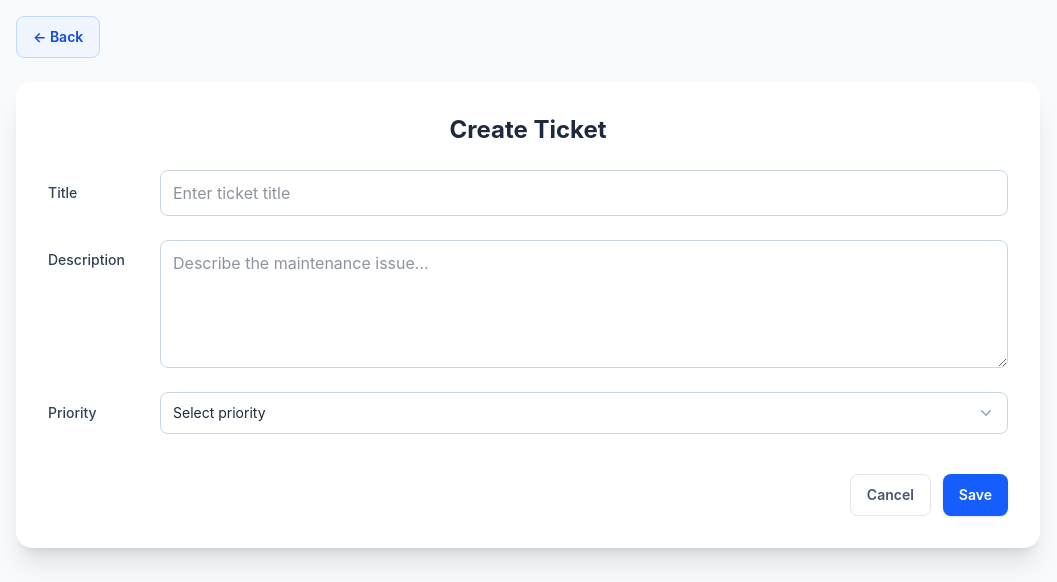
Test case: CreateTicket page › clears the form when the form Cancel button is clicked
Type "Repair leaking pipe" into the field labelled "Title" at (584, 193), box [160,170,1008,216]
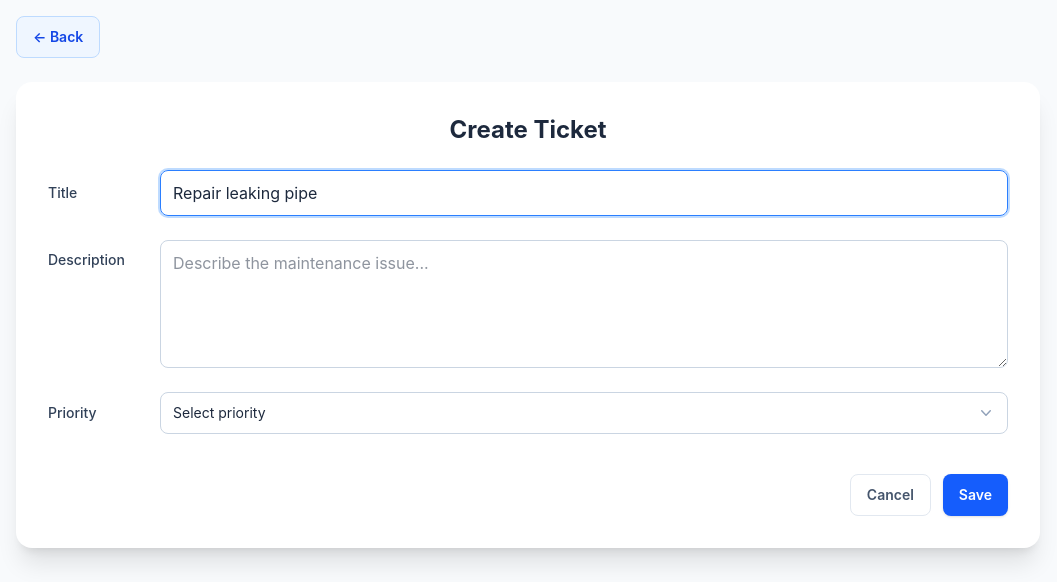
Type "Pipe leak in kitchen" into the text box labelled "Description" at (584, 304), box [160,240,1008,368]
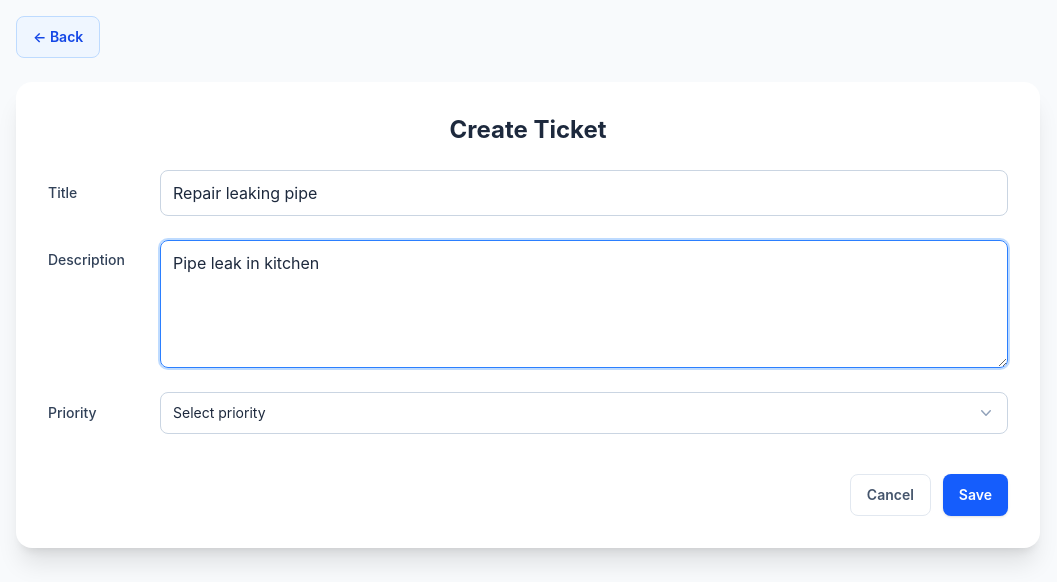
Select "High" in the dropdown labelled "Priority" at (584, 413), box [160,392,1008,434]
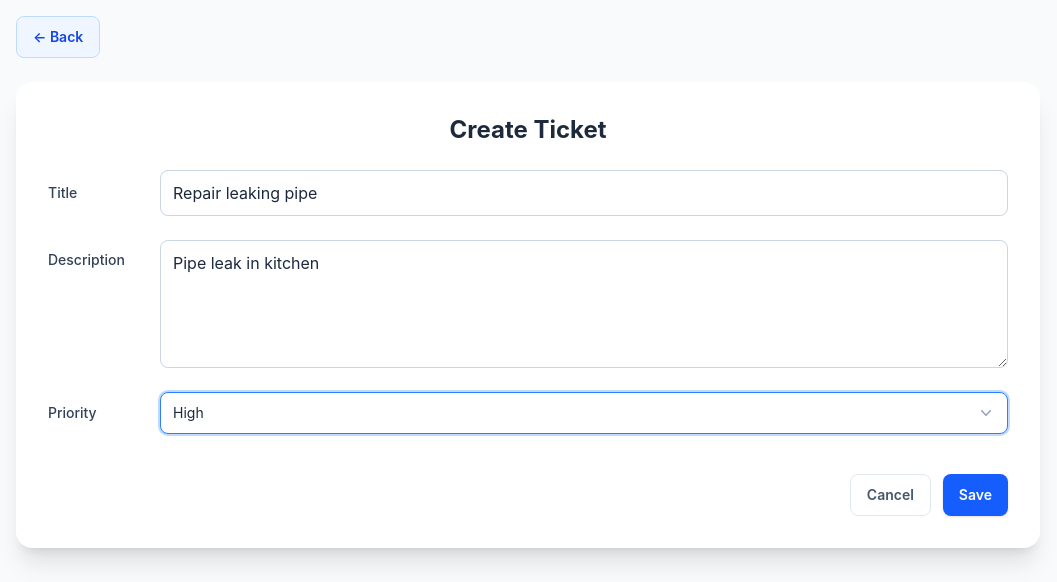
Click the button "Cancel" at (890, 495), box [850,474,931,516]
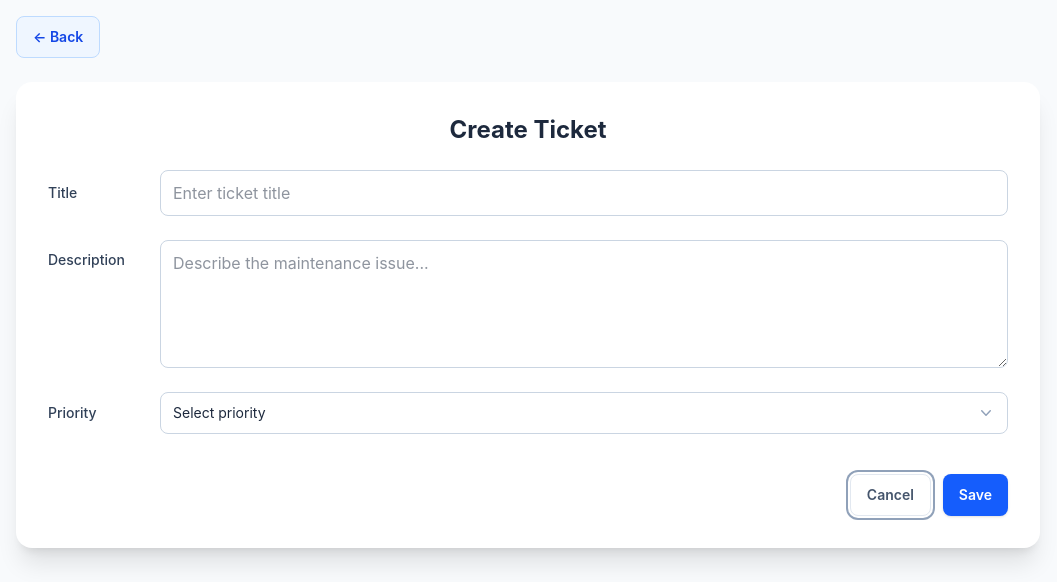
Check: the field labelled "Title" is empty, box [160,170,1008,216]
Check: the text box labelled "Description" is empty, box [160,240,1008,368]
